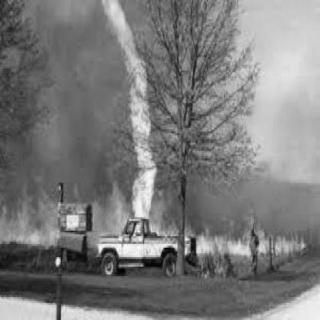Fire: (184, 217, 306, 254), (1, 198, 54, 248)
other: (56, 227, 87, 254)
